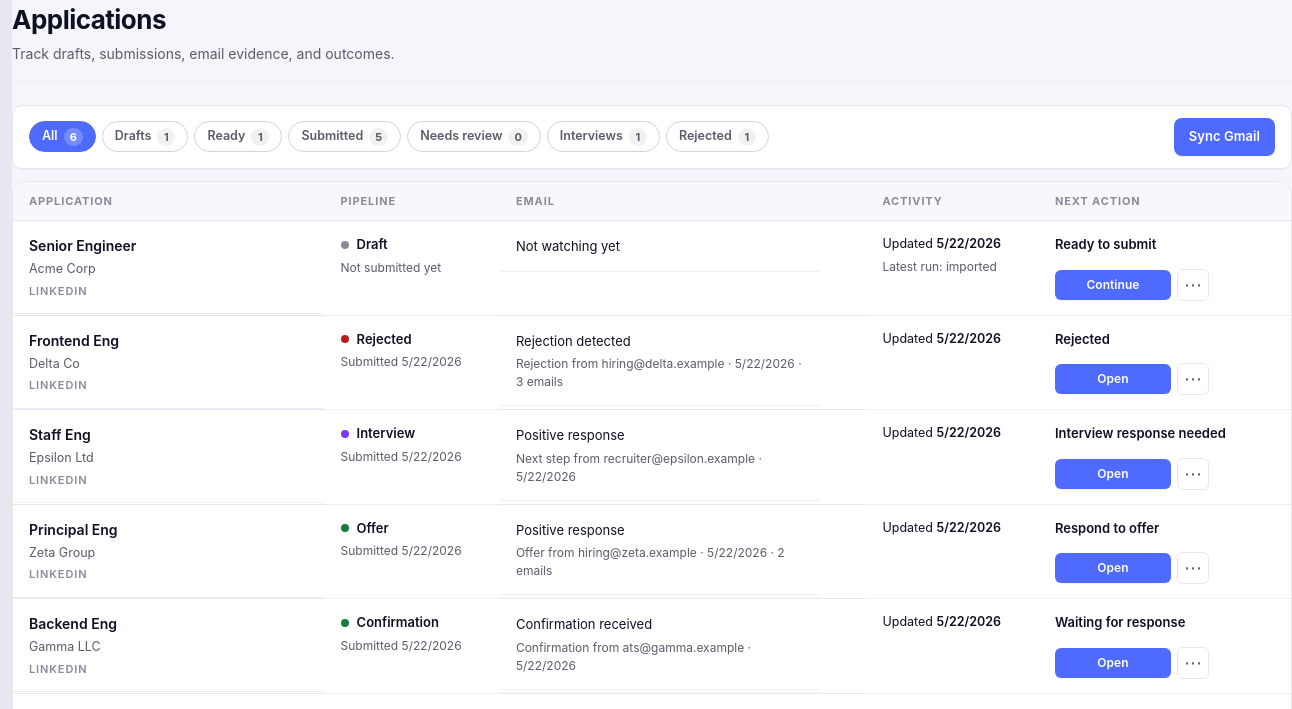
Test case: ApplicationsPage › keeps Mark submitted/interview/rejected in the secondary overflow menu
This screenshot has width=1292, height=709.
Expected: the heading "Applications" is shown, [12, 4, 166, 35]
Expected: the button "mark submitted" is not shown
What coordinates should you click on to do the following:
click the button named "more actions"
I would click on:
 (1193, 284)
Its box is [1177, 268, 1209, 300].
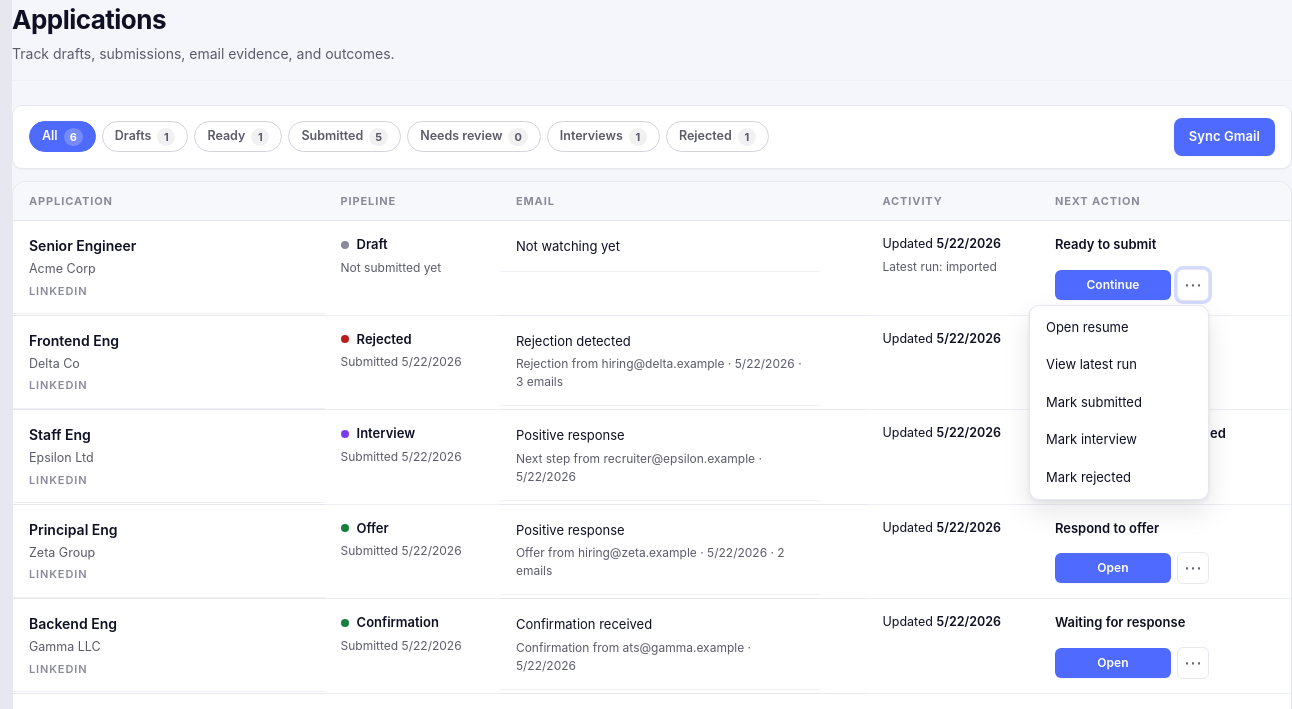
Expected: the menu item "Mark submitted" is shown, [1034, 384, 1204, 420]
Expected: the menu item "Mark interview" is shown, [1034, 422, 1204, 458]
Expected: the menu item "Mark rejected" is shown, [1034, 460, 1204, 495]
